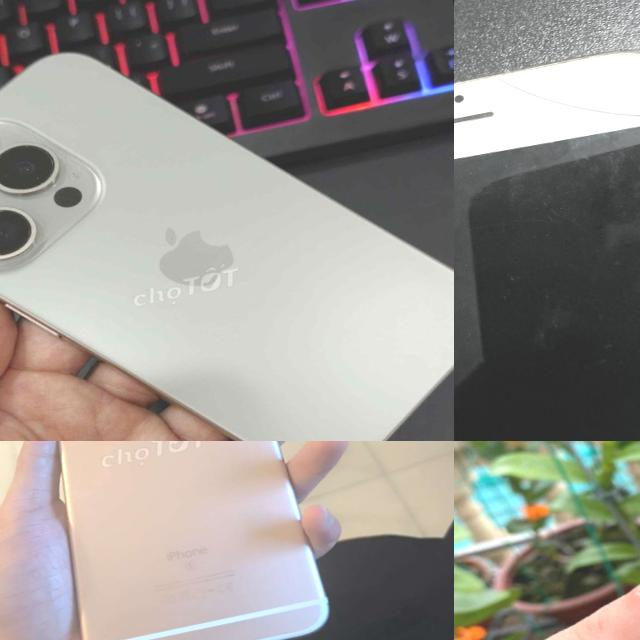physical_damage: (493, 38, 640, 155)
